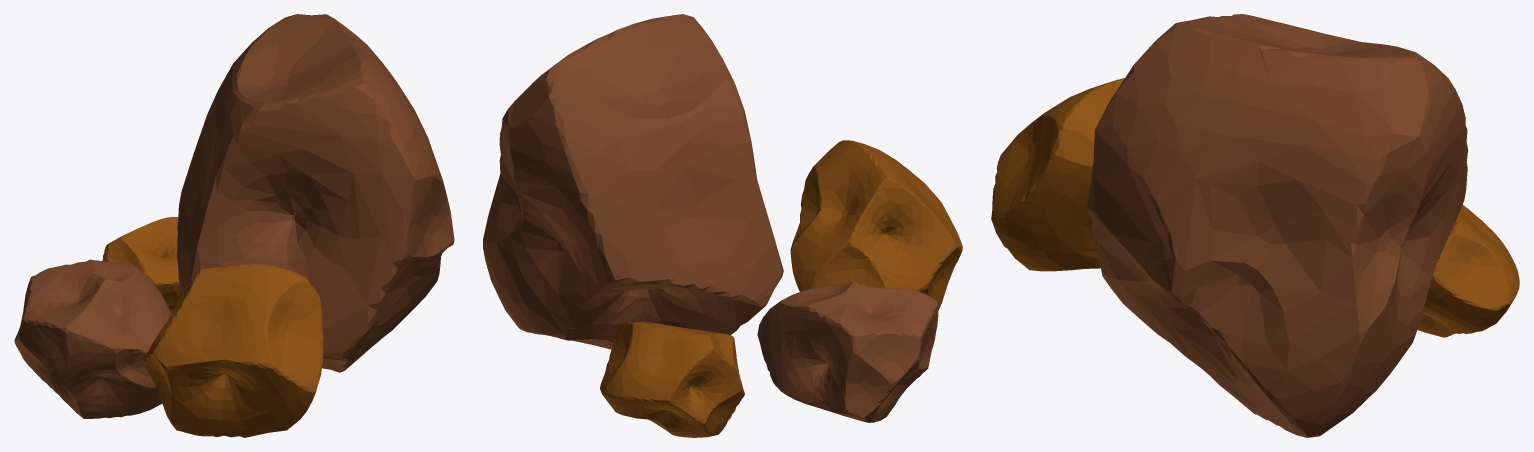
Rendered from Rocks01.fbx.
3 views of the same model, side by side, from view 1: azimuth 30°, elevation 25°; view 2: azimuth 150°, elevation 25°; view 3: azimuth 270°, elevation 25° (orthographic). The views are drawn at different scales.
Parts seen in each view (by area): view 1: Rock01, Rock04, Rock02, Rock03; view 2: Rock01, Rock04, Rock02, Rock03; view 3: Rock01, Rock04, Rock03.
Part boxes in pixels (<box>): Rock01: <box>176,14,454,372</box>; Rock04: <box>143,264,323,437</box>; Rock02: <box>14,259,171,418</box>; Rock03: <box>102,216,180,313</box>; Rock01: <box>483,14,783,349</box>; Rock04: <box>790,140,962,310</box>; Rock02: <box>757,281,938,422</box>; Rock03: <box>600,322,744,437</box>; Rock01: <box>1087,14,1467,437</box>; Rock04: <box>991,78,1124,271</box>; Rock03: <box>1417,205,1519,337</box>.
Bounding box in the file's own units: 99.82 × 73.75 × 92.51.
